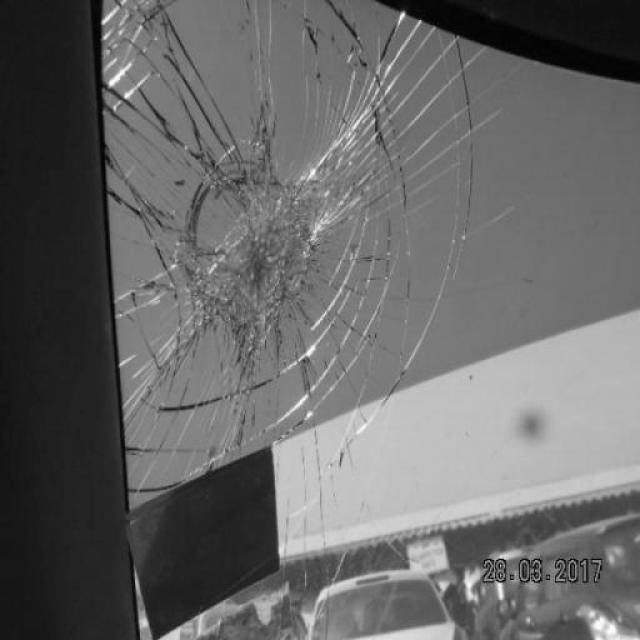crack: (123, 8, 425, 479)
